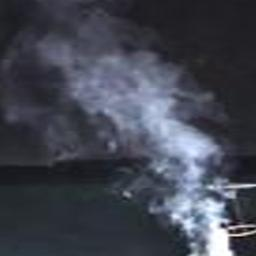smoke: (2, 0, 231, 255)
